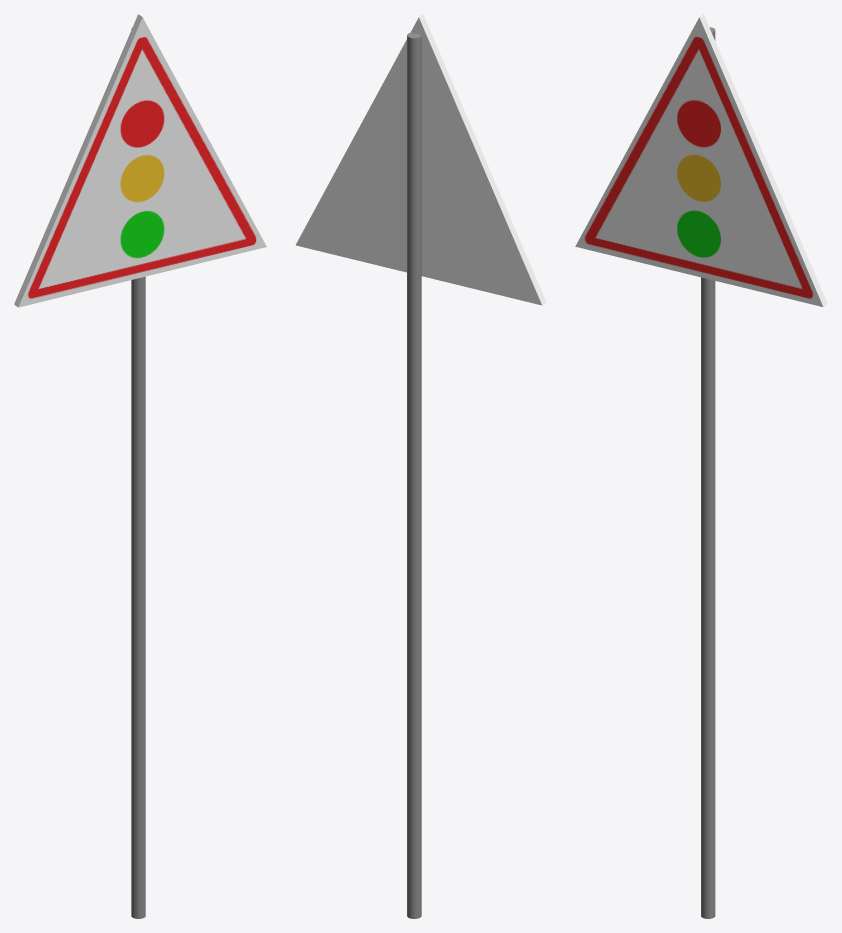
Rendered from Traffic Sign_Triangle_1obj.fbx.
3 renders of one model, left to right at view 1: azimuth 30°, elevation 25°; view 2: azimuth 150°, elevation 25°; view 3: azimuth 330°, elevation 25°, orthographic.
Visible parts, largest first — view 1: Cylinder; view 2: Cylinder; view 3: Cylinder.
Part boxes in pixels (<box>): Cylinder: <box>14,14,266,918</box>; Cylinder: <box>296,14,546,918</box>; Cylinder: <box>575,14,827,918</box>.
Bounding box in the file's own units: 200 × 695 × 14.15.
